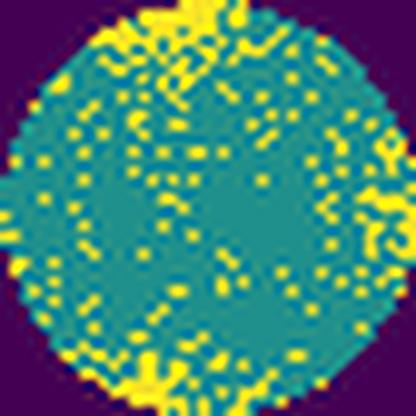Edge-Loc: (90, 0, 262, 105), (64, 344, 195, 416), (353, 185, 415, 268)
